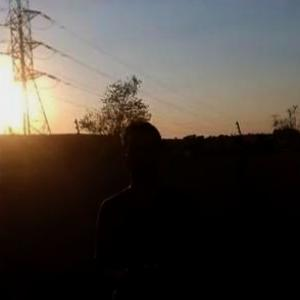follow: (93, 115, 217, 299)
